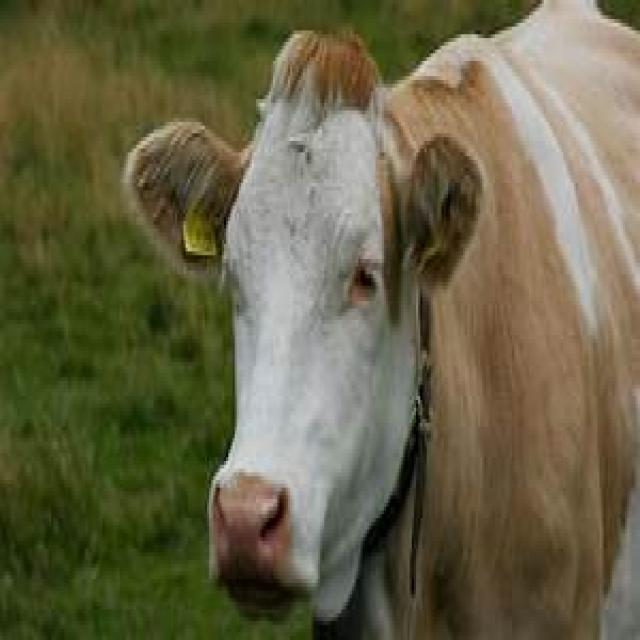cow: (119, 0, 638, 636)
